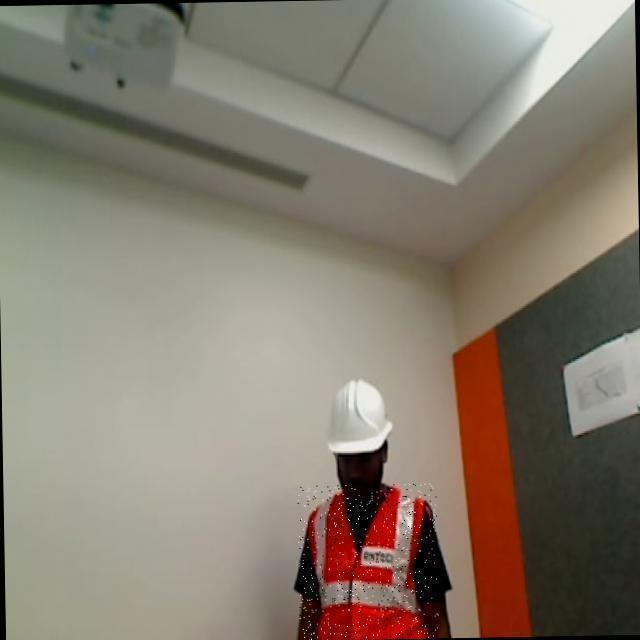helmet: (322, 369, 400, 472)
vest: (297, 483, 438, 640)
